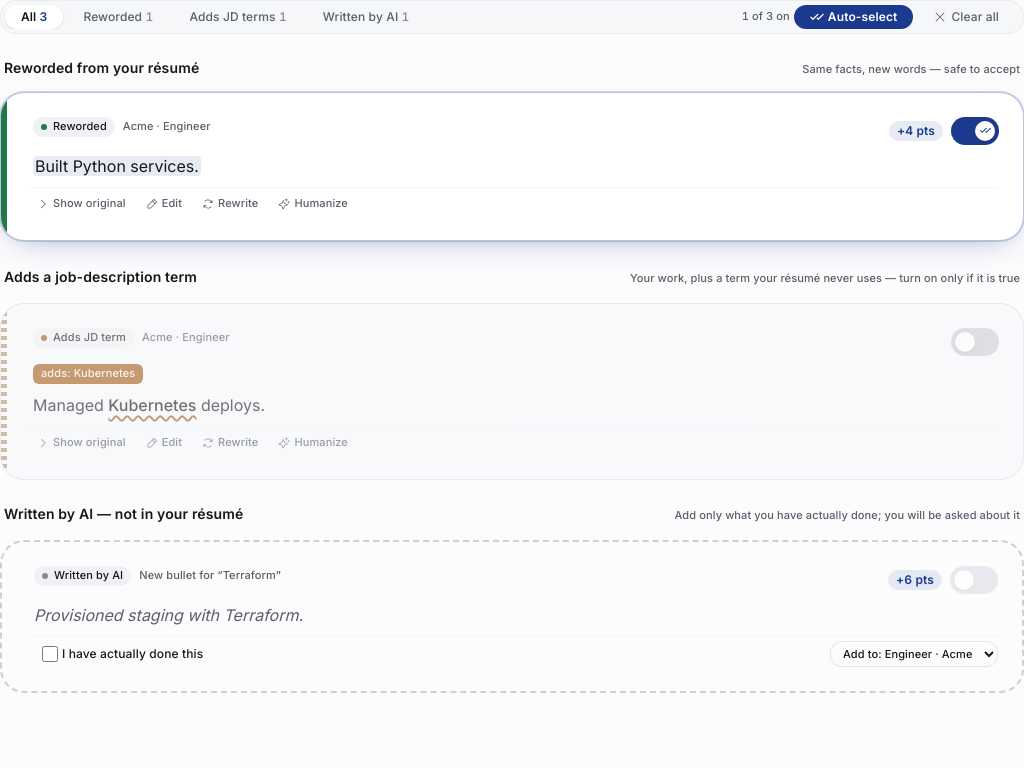
Test: PointsLedger › locks an AI-written point until confirmed, and confirming adds it in one click
expect the switch named "add this new bullet" is disabled: met, box [950,566,998,594]
Click the checkbox labelled "I have actually done this": (50, 654) [42,646,58,662]
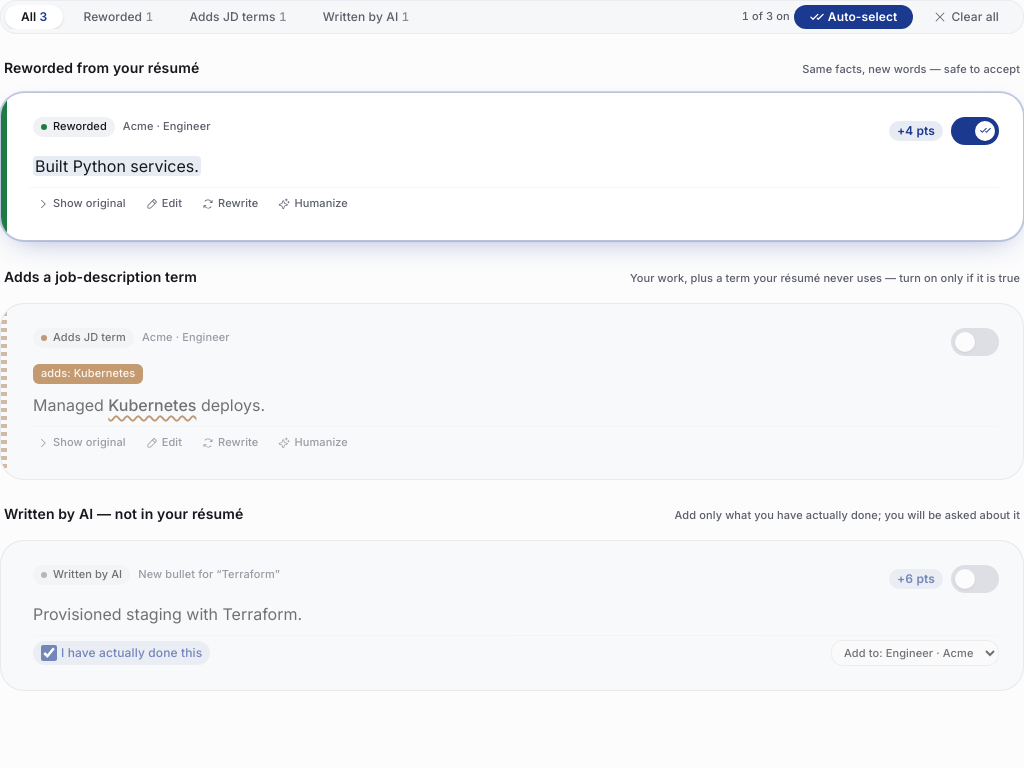
expect the switch named "add this new bullet" is enabled: met, box [951,565,999,593]
